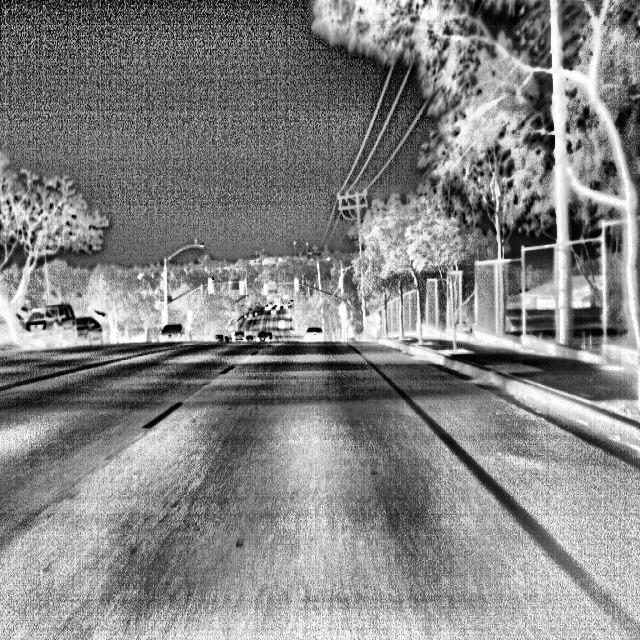car: (15, 297, 77, 359), (59, 298, 104, 348), (217, 328, 272, 356), (150, 316, 192, 348), (298, 323, 330, 346), (252, 328, 284, 348), (269, 314, 294, 335), (242, 308, 266, 324), (284, 298, 302, 318), (232, 331, 248, 347), (264, 299, 281, 314), (266, 304, 280, 318)
light: (180, 230, 215, 264)
trafficlight: (228, 275, 259, 304), (288, 273, 315, 299), (200, 275, 219, 302), (263, 279, 286, 299)
